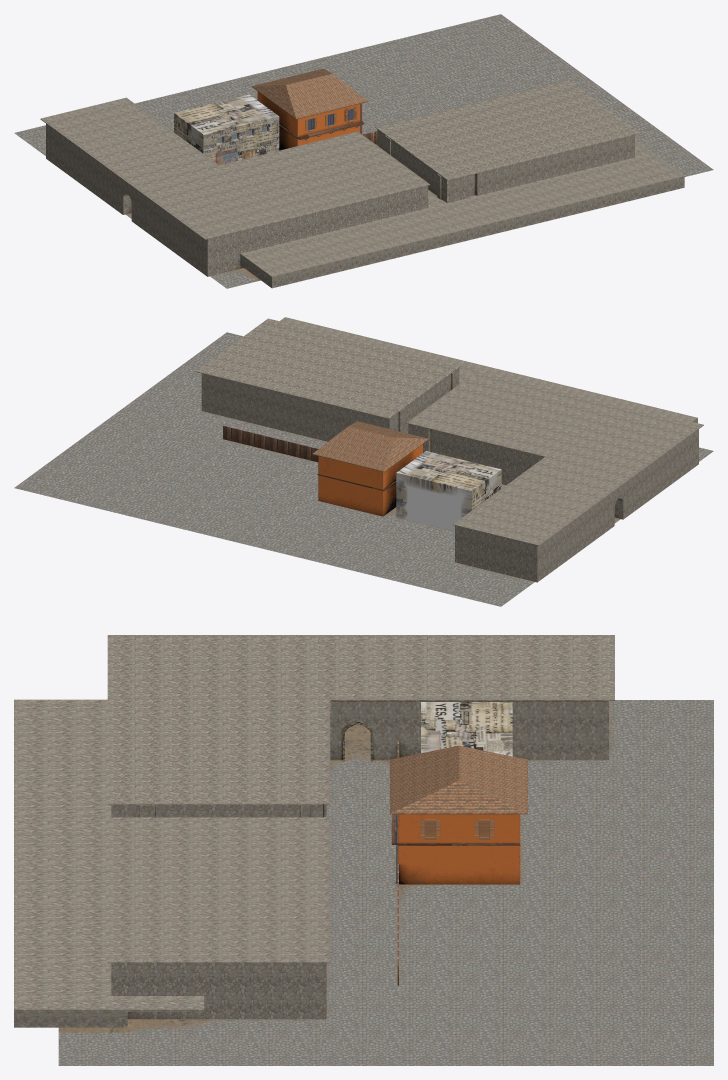
The model's file is House3.dae.
3 views of the same model, one above another, from view 1: azimuth 30°, elevation 25°; view 2: azimuth 150°, elevation 25°; view 3: azimuth 270°, elevation 25° (orthographic). The views are drawn at different scales.
Parts seen in each view (by area): view 1: Wall_2, Ground1, Wall_1, Step, House1, House2; view 2: Ground1, Wall_2, Wall_1, House1, House2, Step, Wall_Wood1; view 3: Ground1, Wall_2, Wall_1, Step, House1, House2.
Part boxes in pixels (bbox=[...]): Wall_2: bbox=[40, 97, 430, 276]; Ground1: bbox=[14, 14, 713, 288]; Wall_1: bbox=[375, 80, 640, 202]; Step: bbox=[240, 140, 684, 288]; House1: bbox=[251, 68, 368, 150]; House2: bbox=[174, 94, 279, 165]; Ground1: bbox=[14, 332, 713, 606]; Wall_2: bbox=[406, 370, 703, 582]; Wall_1: bbox=[195, 318, 460, 441]; House1: bbox=[312, 421, 428, 516]; House2: bbox=[396, 451, 501, 531]; Step: bbox=[280, 317, 697, 423]; Wall_Wood1: bbox=[223, 425, 318, 462]; Ground1: bbox=[58, 700, 713, 1065]; Wall_2: bbox=[107, 635, 614, 817]; Wall_1: bbox=[107, 817, 330, 1019]; Step: bbox=[14, 699, 204, 1027]; House1: bbox=[390, 745, 527, 884]; House2: bbox=[421, 702, 512, 756].
Size of the model in its own units: 202 by 27.5 by 161.
